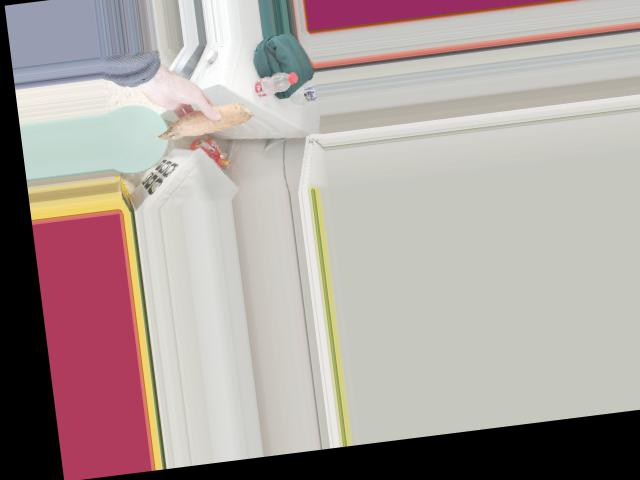sweet_potato: (148, 105, 258, 144)
